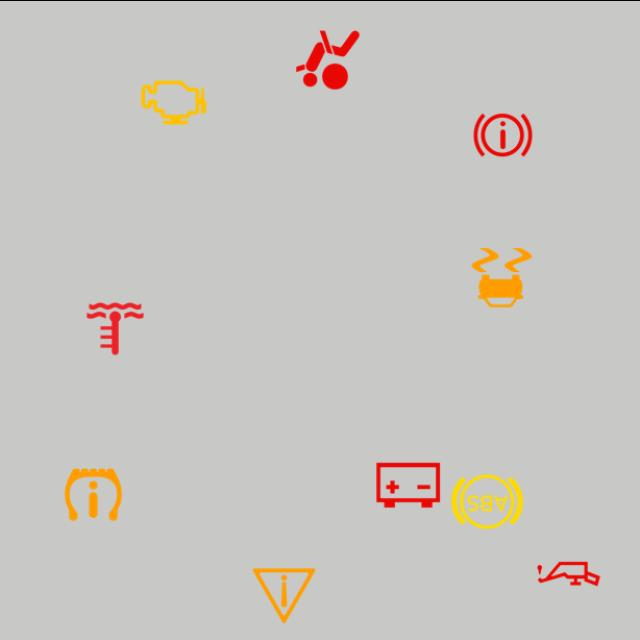Anti Lock Braking System: (448, 462, 526, 540)
Braking System Issue: (464, 95, 542, 173)
Charging System Issue: (369, 445, 447, 523)
Check Engine: (134, 62, 212, 140)
Electronic Stability Problem -ESP-: (463, 238, 541, 316)
Engine Overheating Warning Light: (76, 289, 154, 367)
Low Engine Oil Warning Light: (530, 534, 608, 612)
Low Tire Pressure Warning Light: (54, 454, 132, 532)
Master warning light: (245, 556, 323, 634)
SRS-Airbag: (289, 20, 367, 98)
